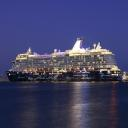cruises: (7, 36, 126, 83)
